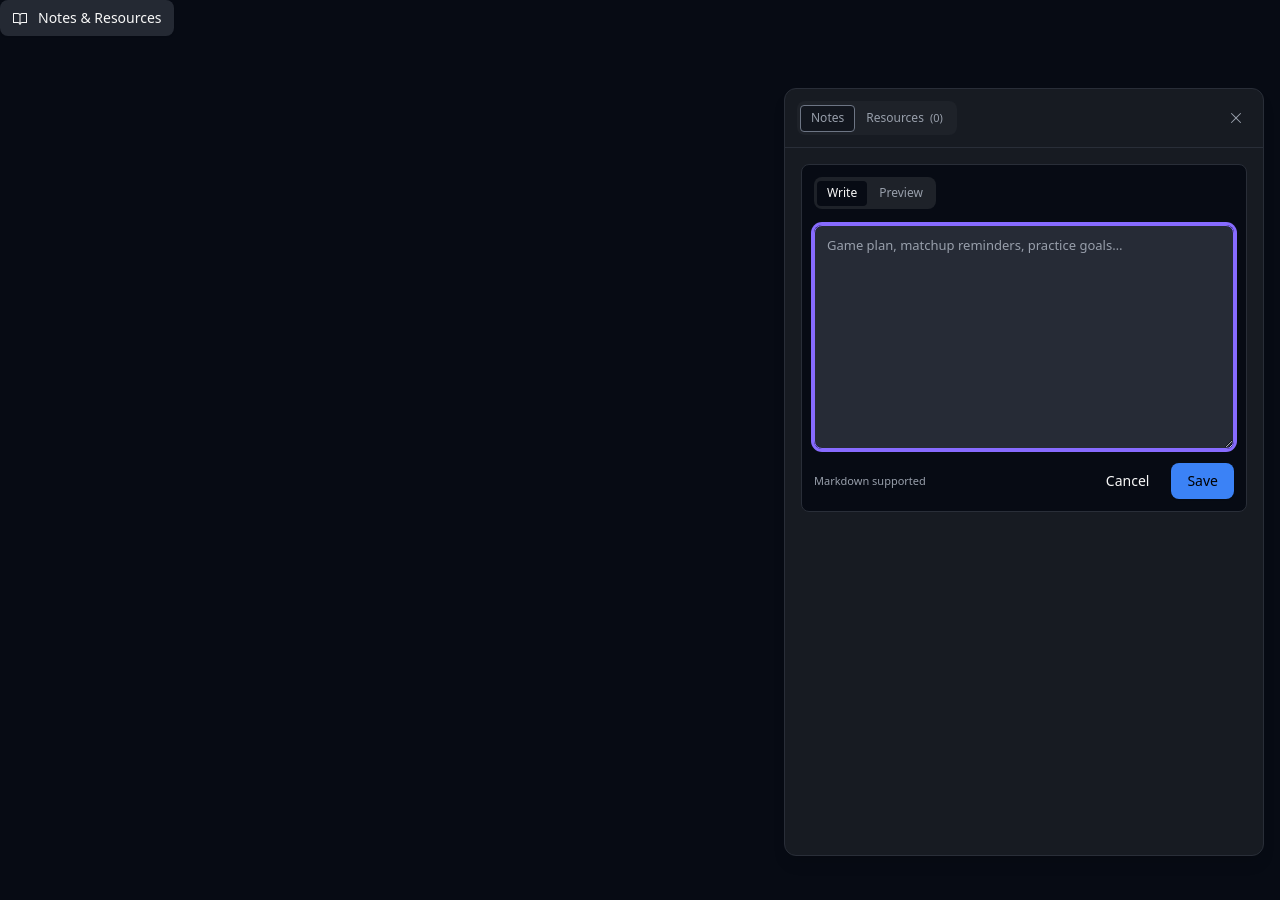
Test: EntityNotebook › opens the note editor from the original empty-page action even when collapsed
The width and height of the screenshot is (1280, 900).
expect the text box named "Note" is shown: met, box [814, 225, 1234, 449]
Click the tab "Resources (0)" at (904, 118), box [855, 104, 954, 132]
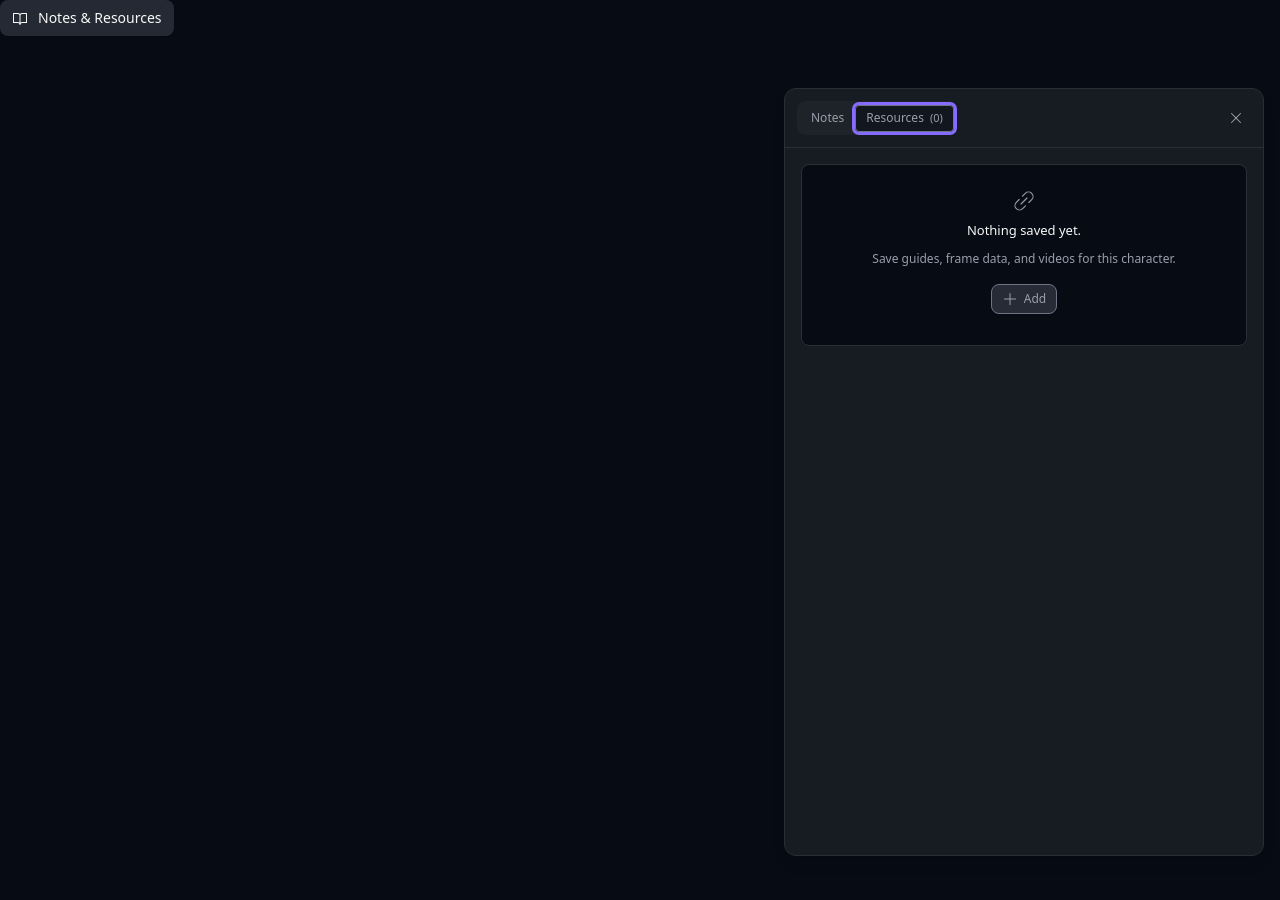
Click the button with aria-label "Add resource link" at (1024, 299), box [991, 284, 1057, 314]
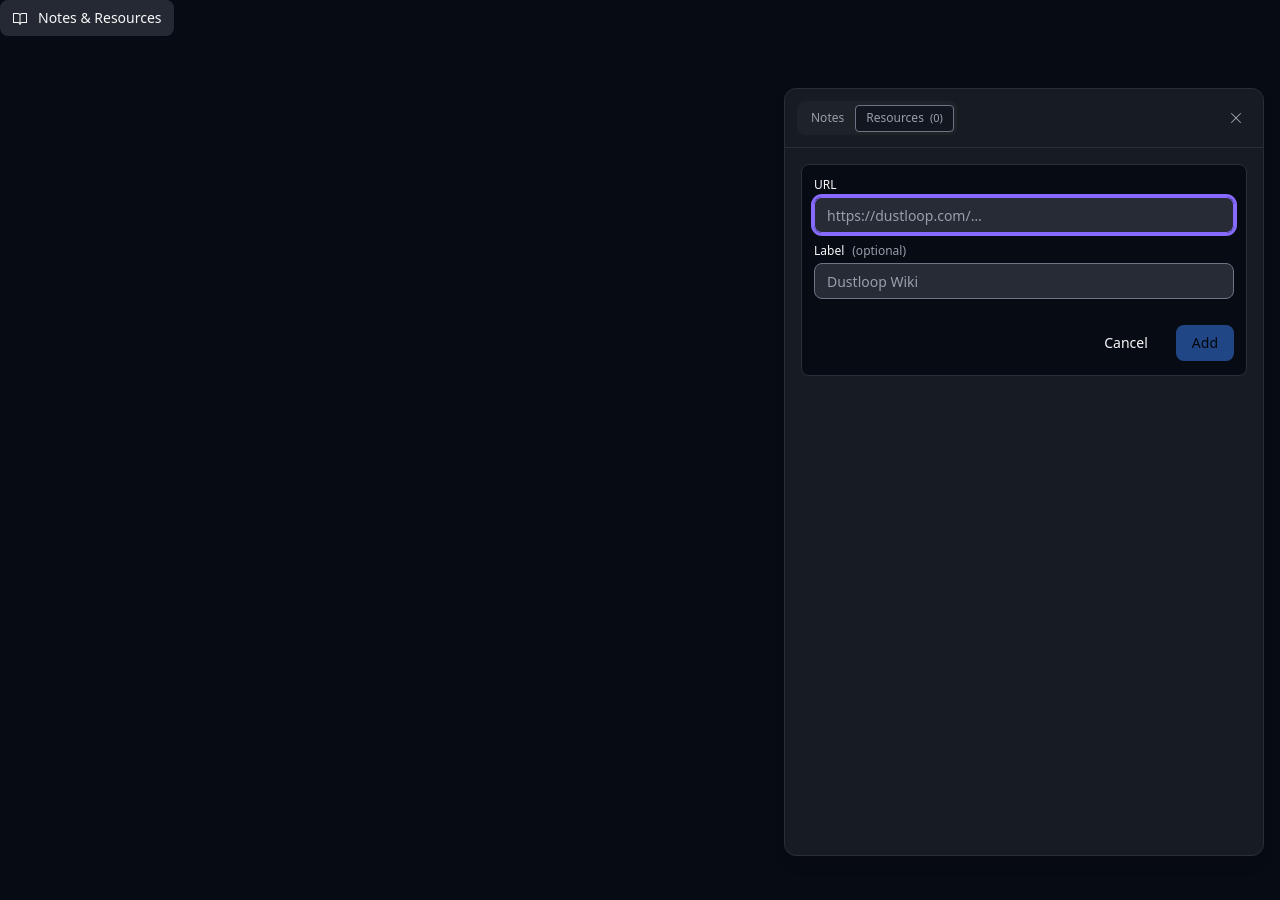
expect the field labelled "URL" is shown: met, box [814, 197, 1234, 233]
